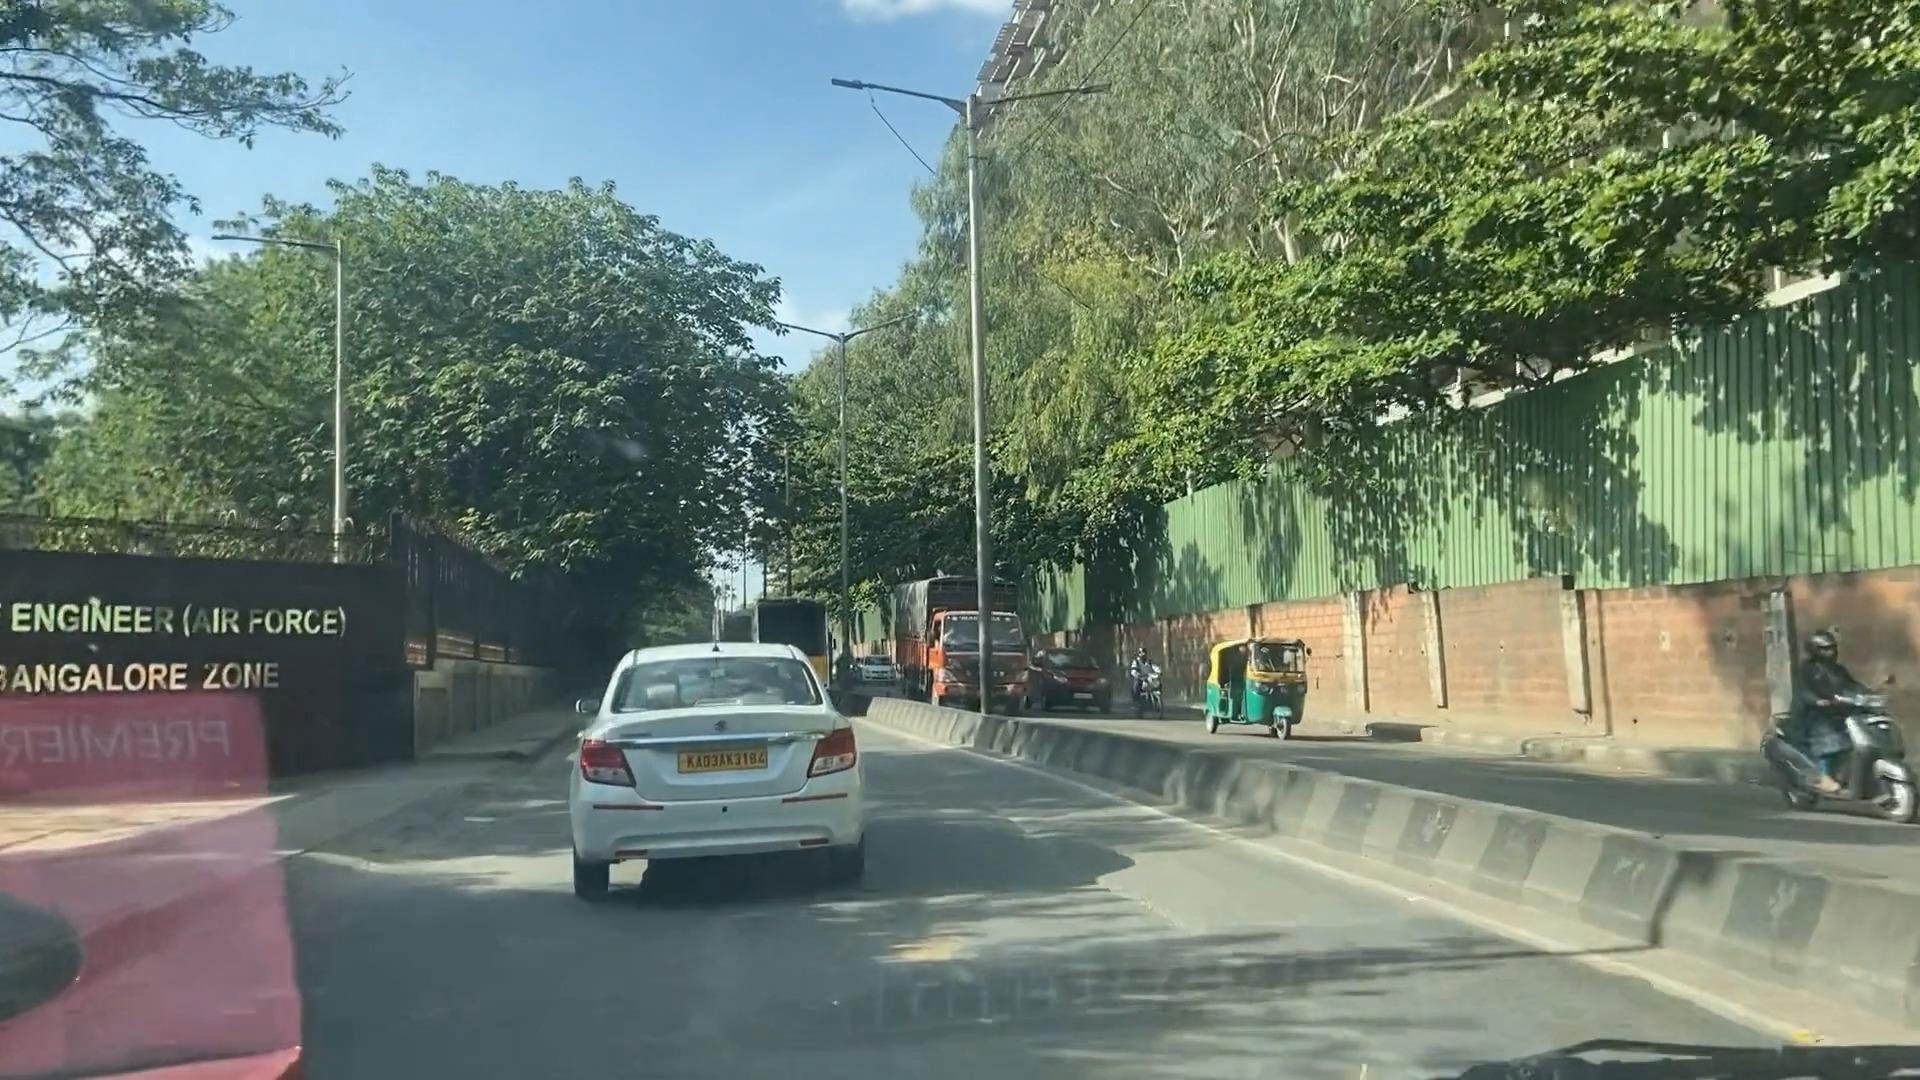HMV: (885, 575, 1043, 717)
